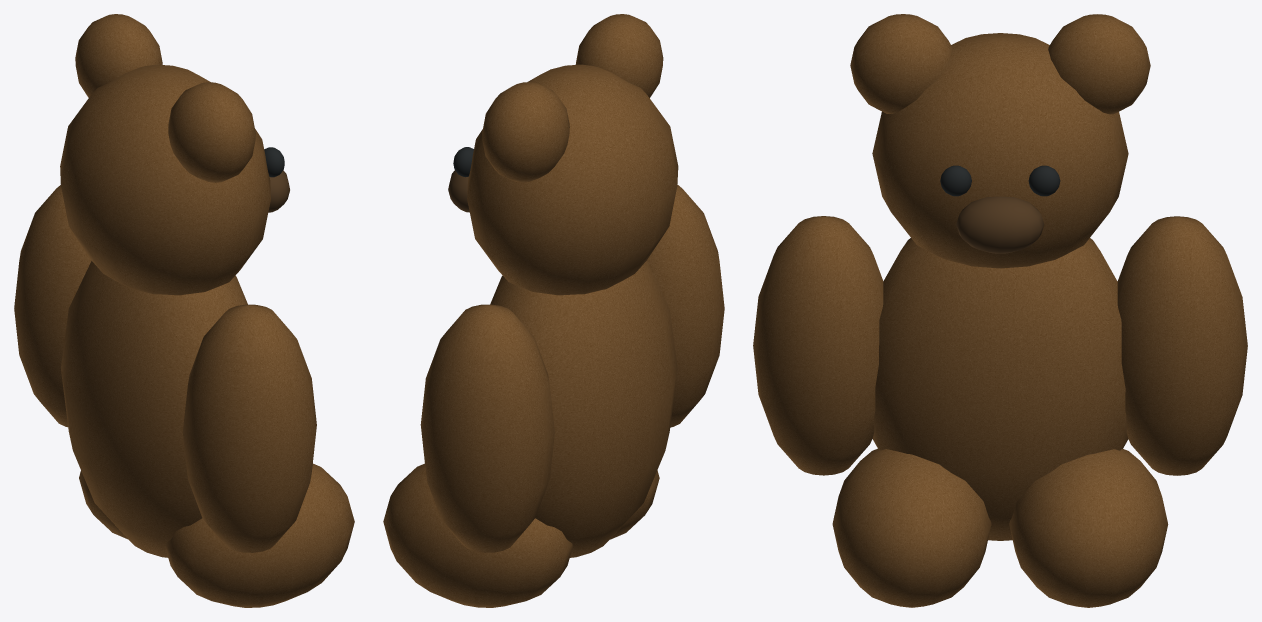
The model's file is SM_TeddyPrize_2faaaba610.fbx.
The picture shows the model from 3 angles, left to right: view 1: azimuth 30°, elevation 25°; view 2: azimuth 150°, elevation 25°; view 3: azimuth 270°, elevation 25°; orthographic projection. The views are drawn at different scales.
Parts seen in each view (by area): view 1: SM_TeddyPrize_2faaaba610; view 2: SM_TeddyPrize_2faaaba610; view 3: SM_TeddyPrize_2faaaba610.
Boxes of the visible parts, x1=… form: SM_TeddyPrize_2faaaba610: x1=14, y1=14, x2=354, y2=607; SM_TeddyPrize_2faaaba610: x1=383, y1=14, x2=724, y2=607; SM_TeddyPrize_2faaaba610: x1=753, y1=14, x2=1247, y2=607.
Size of what is drawn, in the model's own units: 28.31 by 51.11 by 62.97.
Materials: 3 (1 with a texture image).
